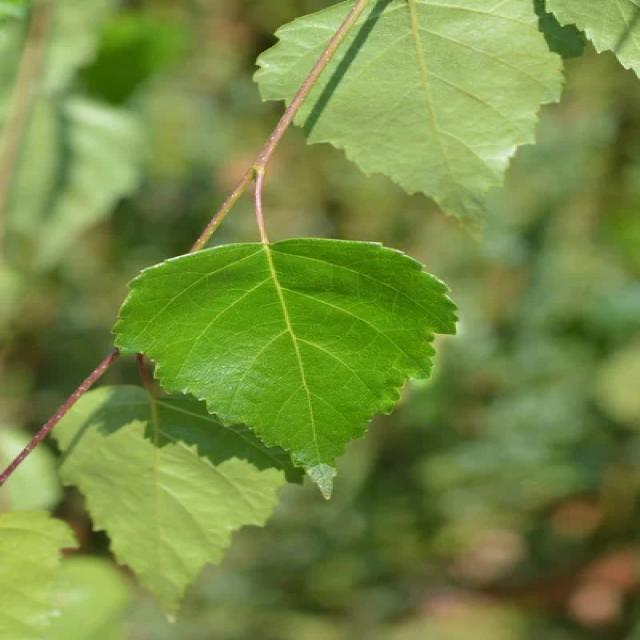yaprak: (173, 242, 424, 443)
